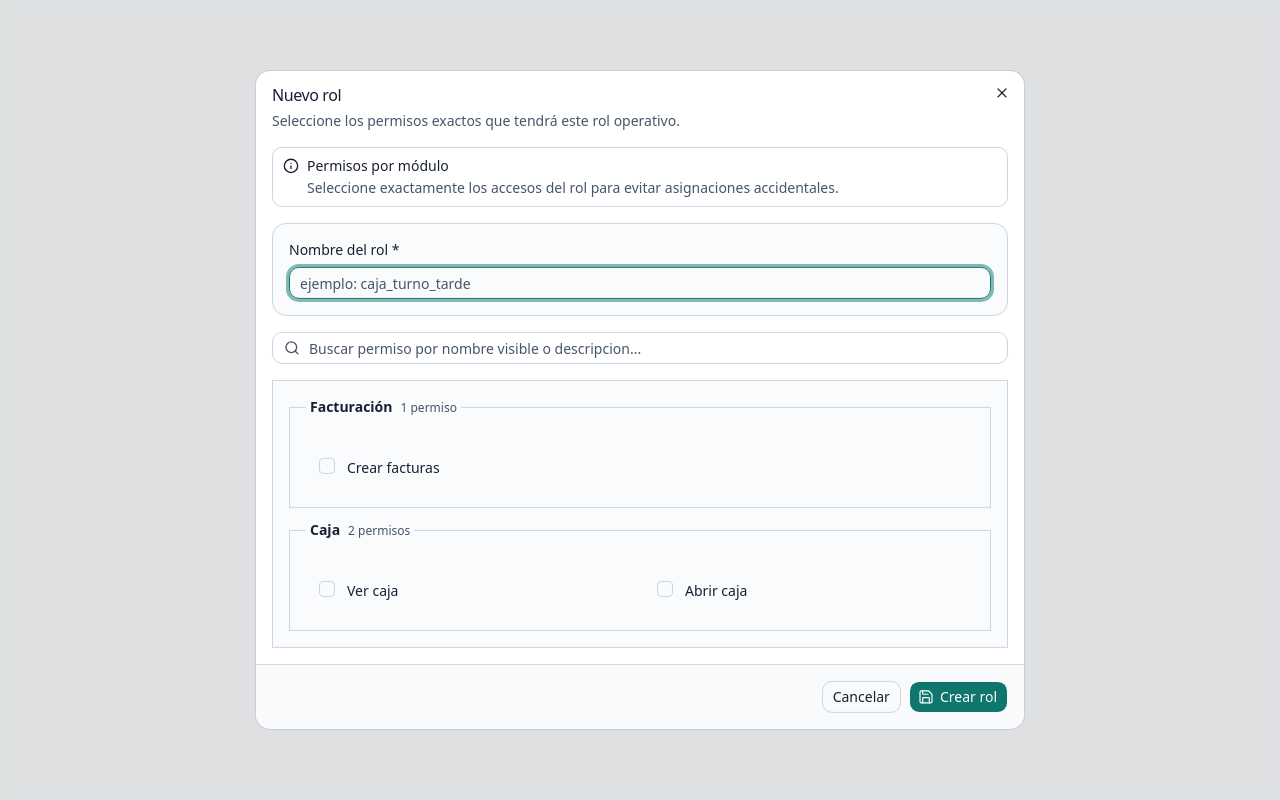
RoleFormDialog › filters the visible permissions when the search input changes
Expected: the checkbox named "crear facturas" next to "Crear facturas" is shown, [319,458,335,474]
Expected: the checkbox named "abrir caja" next to "Abrir caja" is shown, [657,581,673,597]
Type "abrir" into the search field labelled "Buscar permiso por nombre visible o descripcion...".
click(640, 348); type("abrir")  # box [272,332,1008,364]
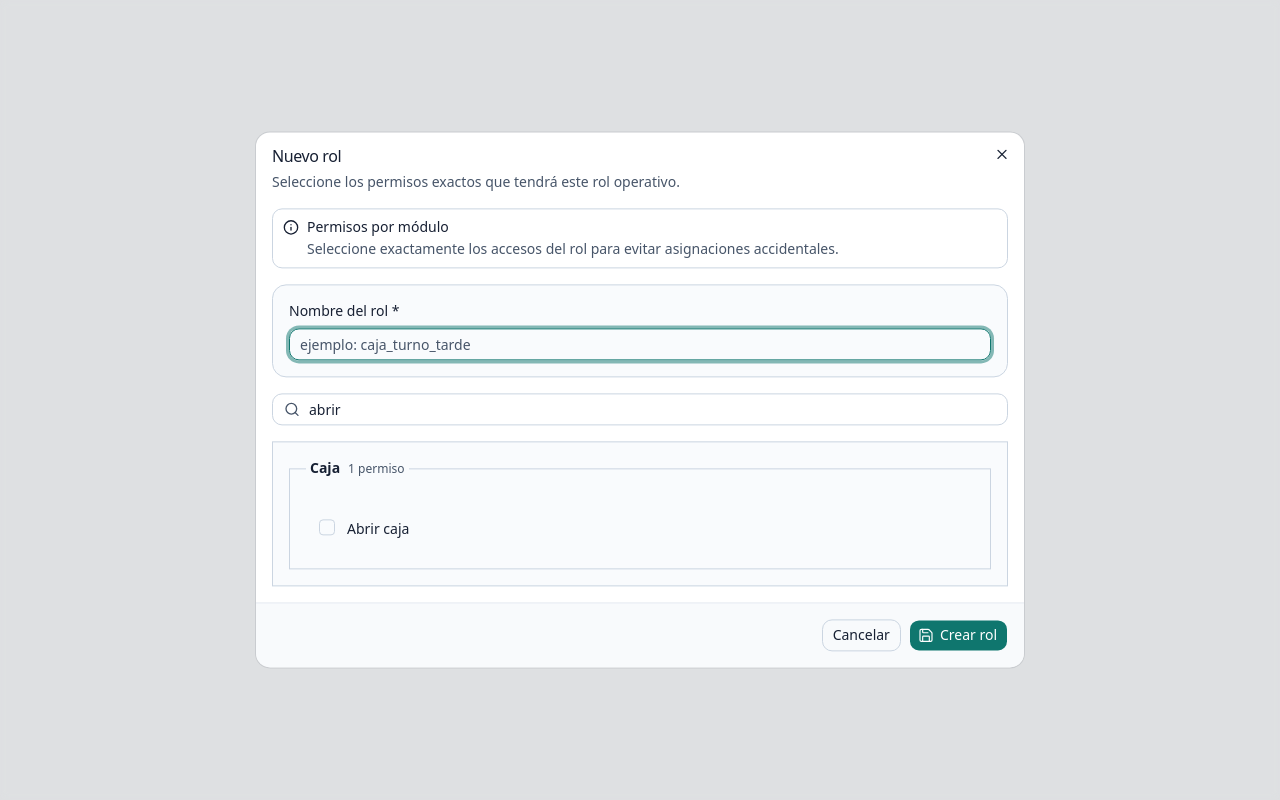
Expected: the checkbox named "abrir caja" is shown, [319,520,335,536]
Expected: the text "Crear facturas" is gone
Replace the text in the search field named "Buscar permiso" with "no-existe" at coordinates (640, 410), box [272,394,1008,426]
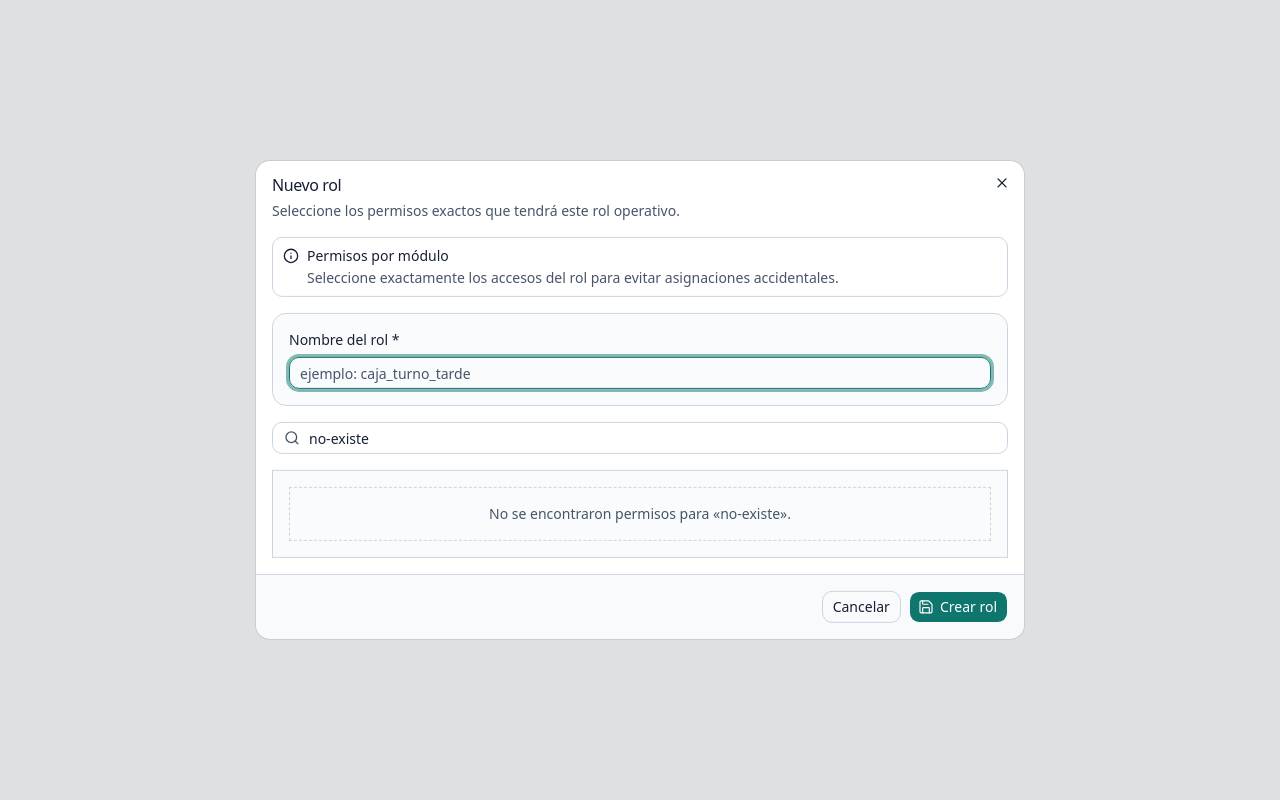
Expected: the text "No se encontraron permisos para «no-existe»." is shown, [289,487,991,541]
